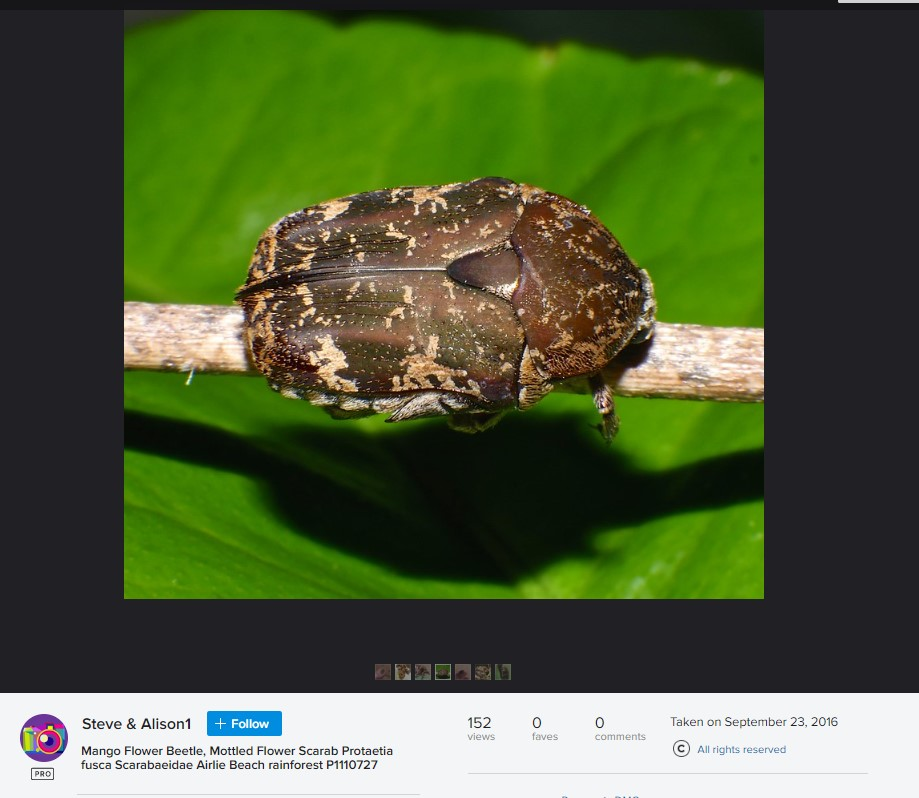Protaetia_fusca: (225, 172, 661, 451)
